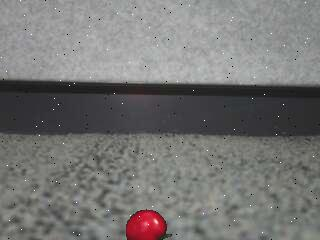Tomato: (124, 208, 174, 240)
